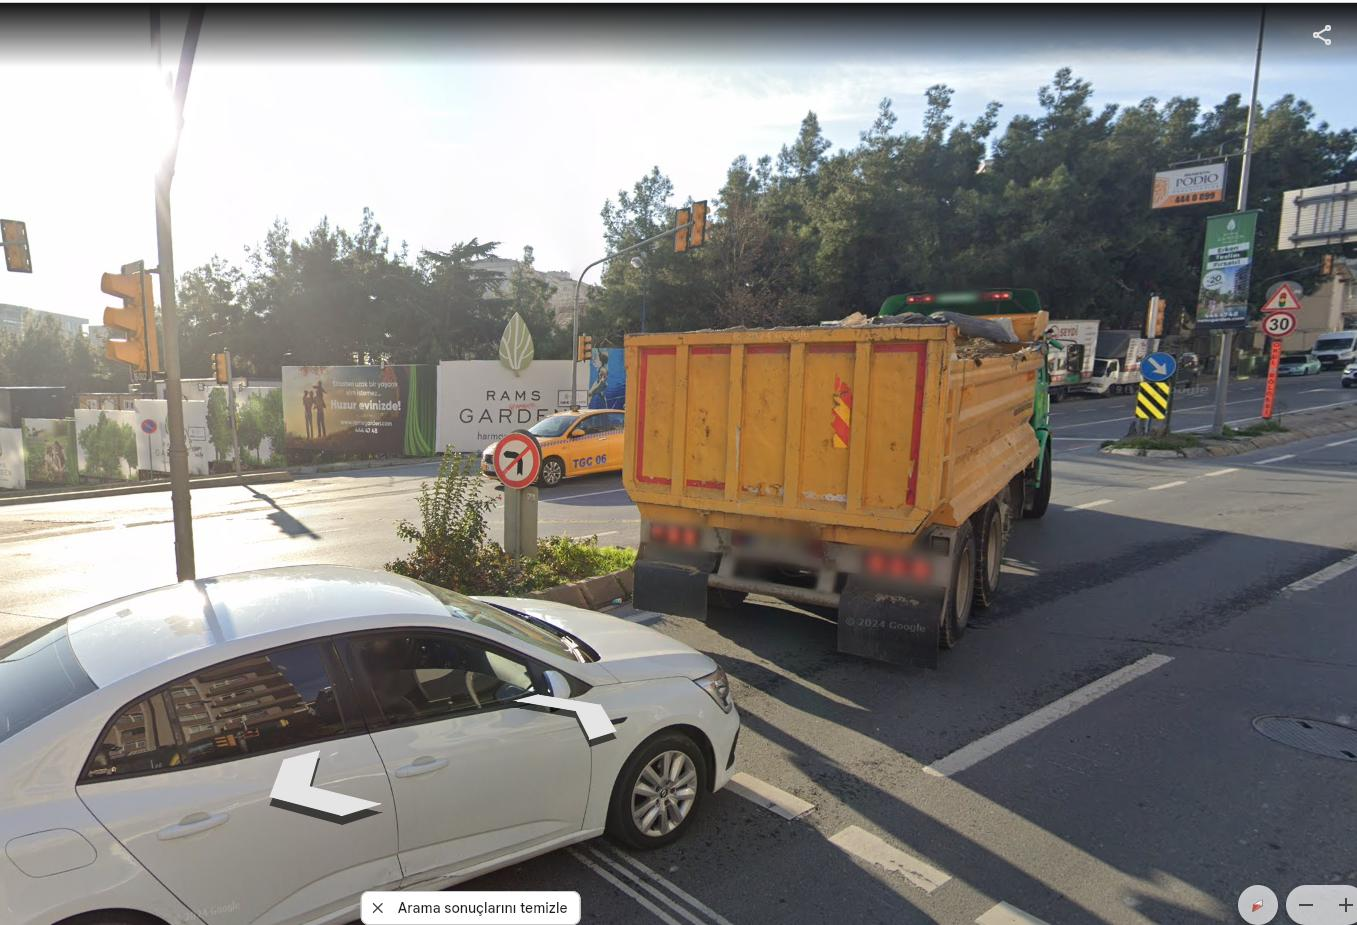leftturnsareforbidden: (494, 434, 540, 485)
